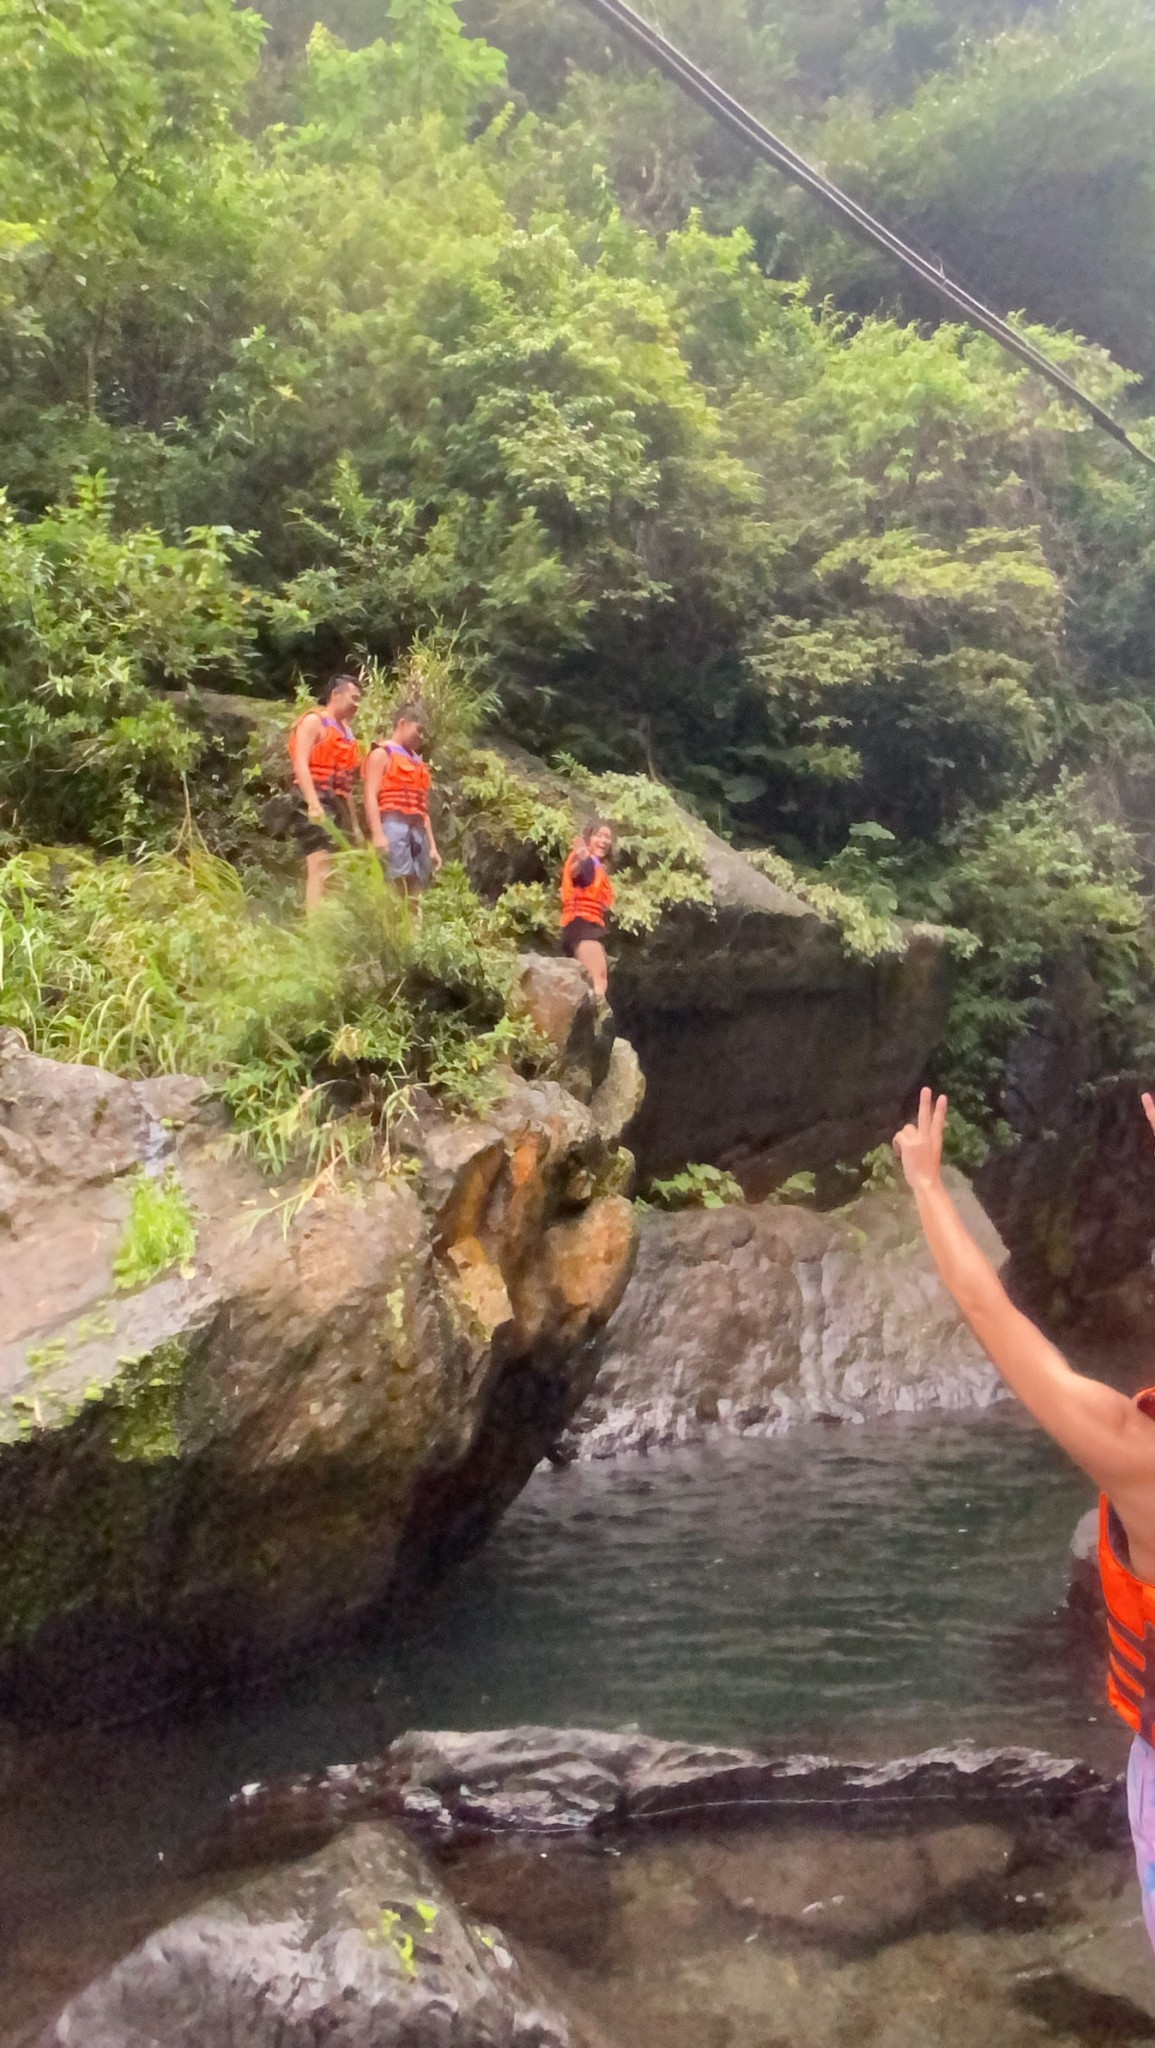people: (975, 1105, 1155, 2038), (288, 680, 369, 954), (365, 705, 446, 960), (559, 822, 630, 1044)
